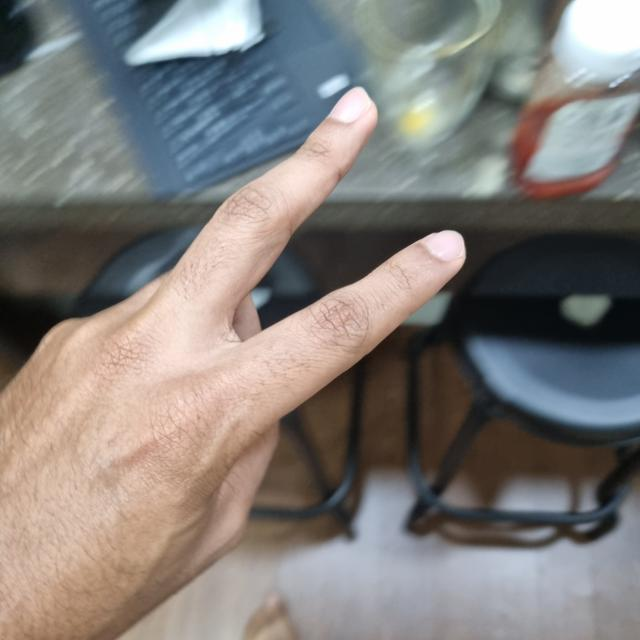Scissors: (0, 97, 463, 639)
